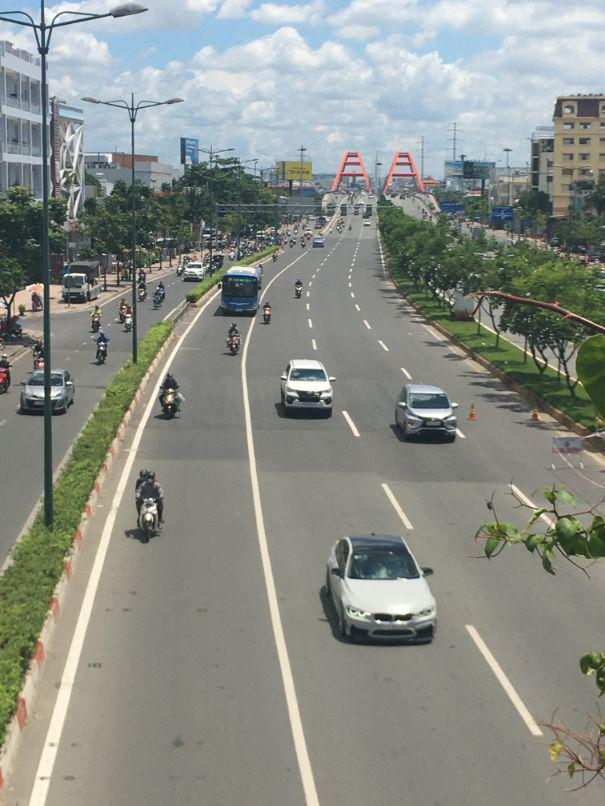bus: (222, 267, 262, 317)
car: (322, 534, 439, 647), (393, 379, 458, 443), (279, 359, 334, 418), (19, 370, 73, 416), (184, 264, 204, 284), (313, 237, 325, 248)
motorbike: (94, 335, 109, 364), (0, 359, 10, 395), (151, 284, 165, 308)
truck: (63, 264, 100, 306)
